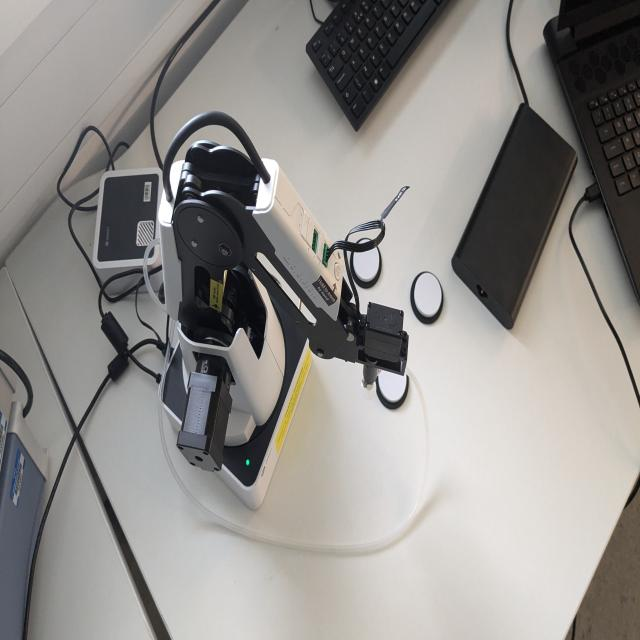Robot-end-effector-HF8z: (359, 297, 411, 410)
